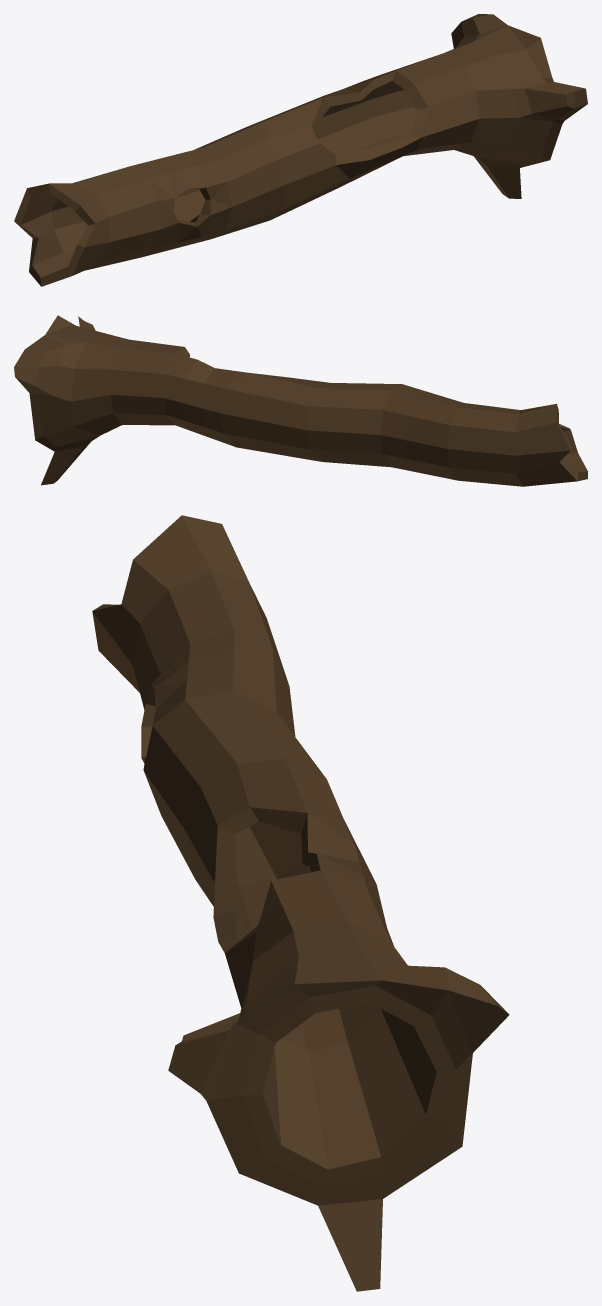
File: fallenTree.fbx
3 renders of one model, top to bottom at view 1: azimuth 30°, elevation 25°; view 2: azimuth 150°, elevation 25°; view 3: azimuth 270°, elevation 25°, orthographic. The views are drawn at different scales.
Parts seen in each view (by area): view 1: fallenTree; view 2: fallenTree; view 3: fallenTree.
Part boxes in pixels (<box>): fallenTree: <box>14,14,587,286</box>; fallenTree: <box>14,315,587,486</box>; fallenTree: <box>92,515,509,1291</box>.
Size of the model in its own units: 269 by 81.68 by 96.57.
